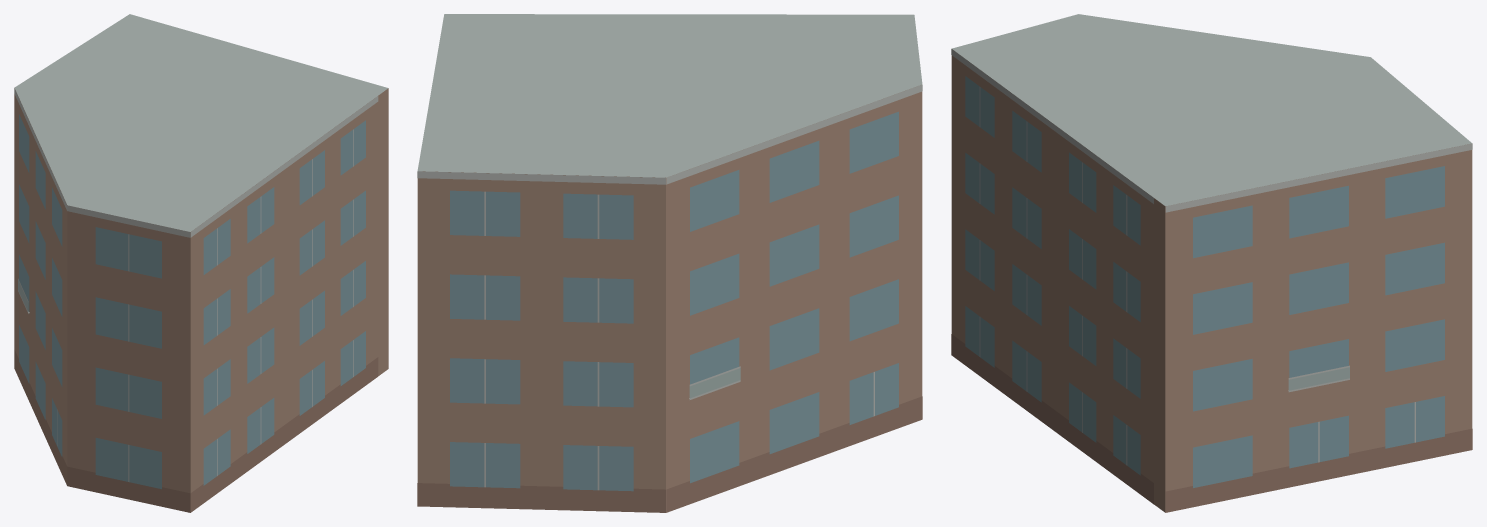
The model's file is survey-upis-32730992.glb.
3 renders of one model, left to right at view 1: azimuth 30°, elevation 25°; view 2: azimuth 150°, elevation 25°; view 3: azimuth 270°, elevation 25°, orthographic. The views are drawn at different scales.
Parts seen in each view (by area): view 1: survey-upis-32730992.tmp; view 2: survey-upis-32730992.tmp; view 3: survey-upis-32730992.tmp.
Part boxes in pixels (bbox=[...]): survey-upis-32730992.tmp: bbox=[14, 14, 388, 512]; survey-upis-32730992.tmp: bbox=[417, 14, 922, 512]; survey-upis-32730992.tmp: bbox=[951, 14, 1472, 512].
Size of the model in its own units: 15.75 by 11.7 by 18.03.
